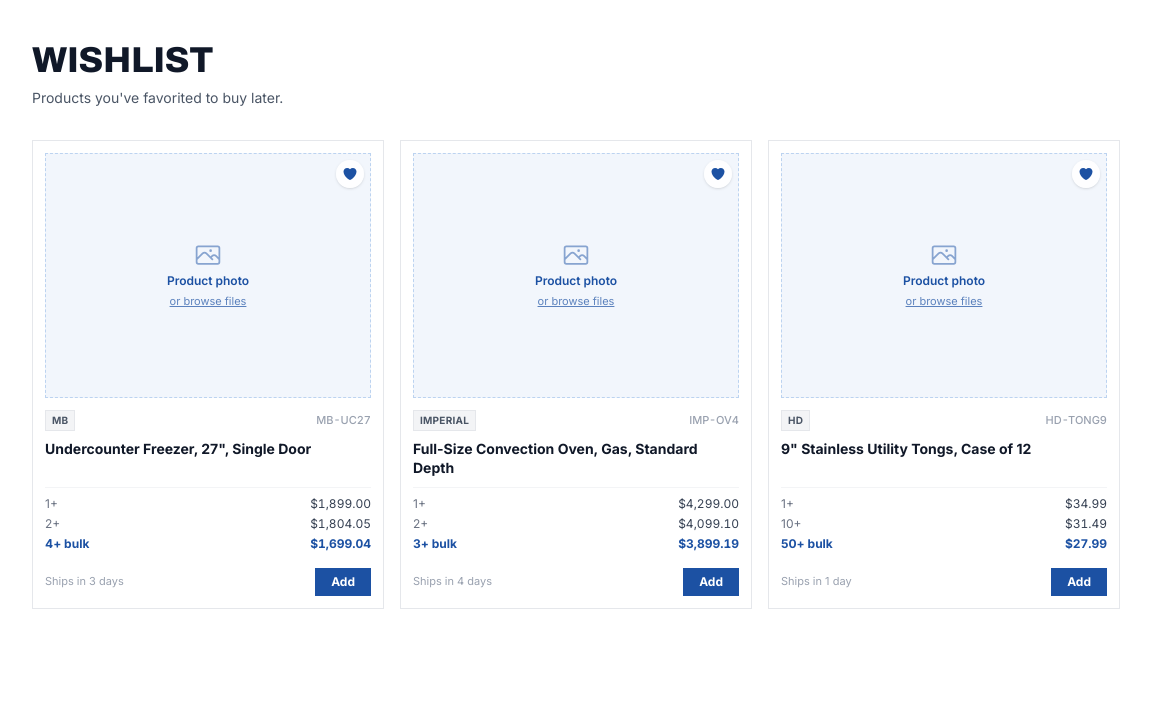
Test case: WishlistPage › shows the empty state once every item has been removed
Click the 1st button named "Remove from wishlist" at (350, 174), box x1=336 y1=160 x2=364 y2=188
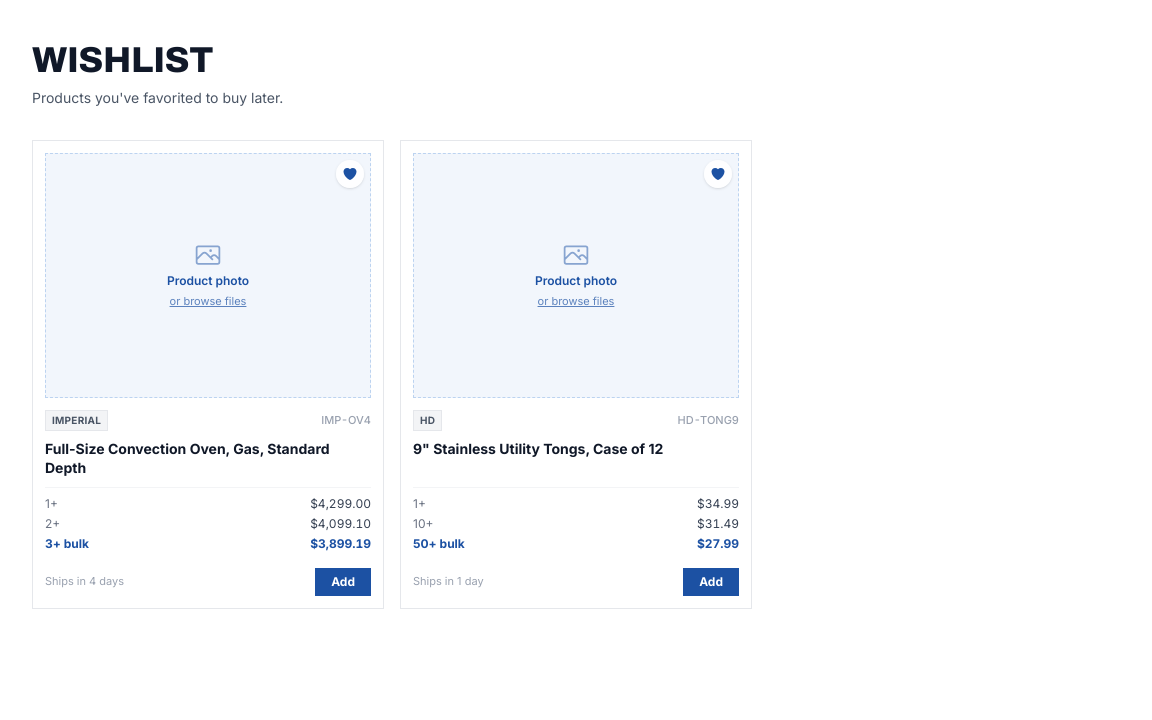
Click the 1st button named "Remove from wishlist" at (350, 174), box x1=336 y1=160 x2=364 y2=188
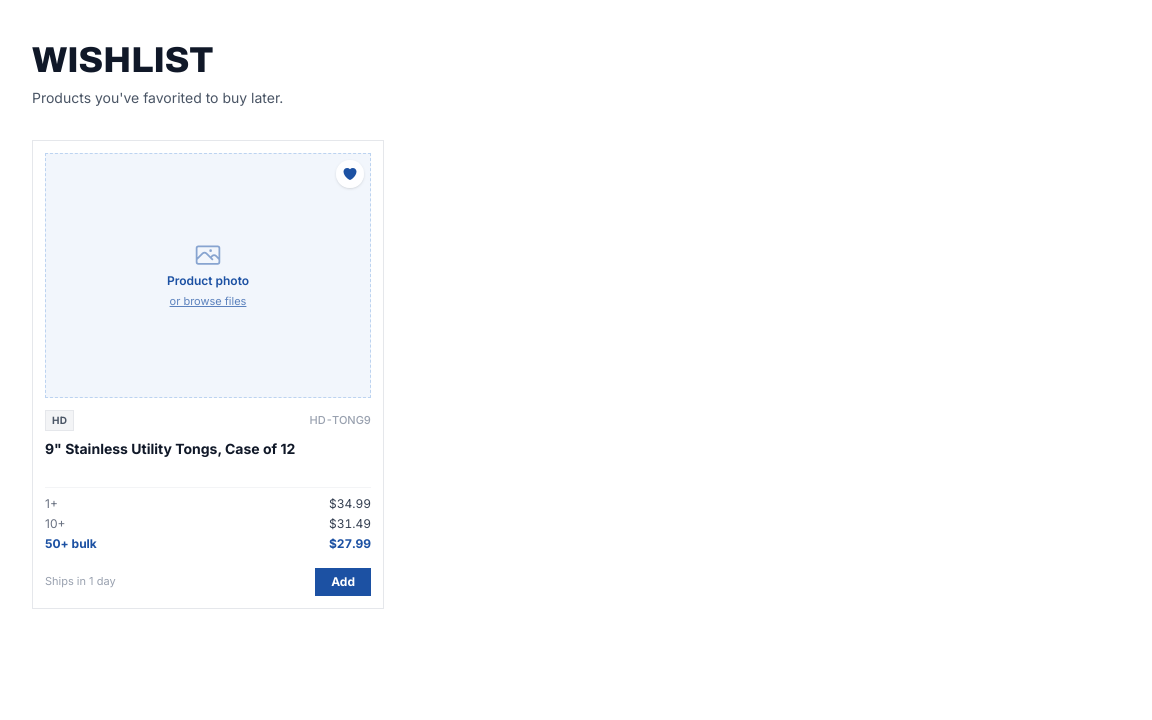
Click the button named "Remove from wishlist" at (350, 174), box x1=336 y1=160 x2=364 y2=188
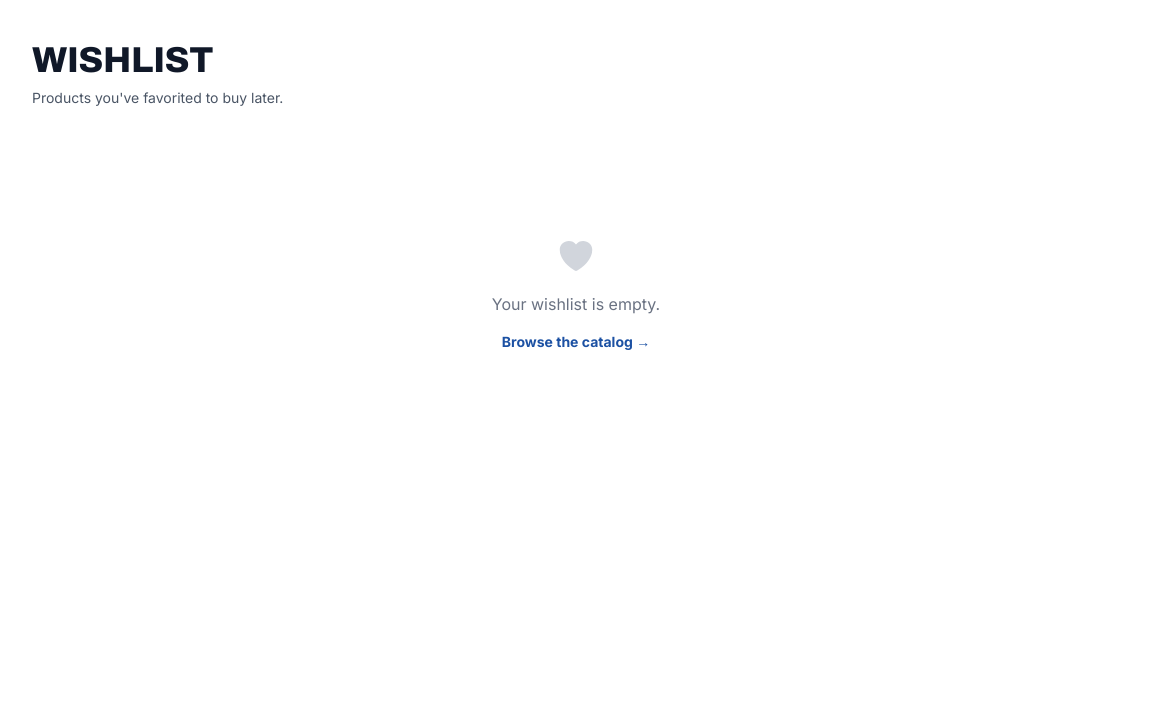
Check: the text "Your wishlist is empty." is shown, box x1=492 y1=294 x2=660 y2=314
